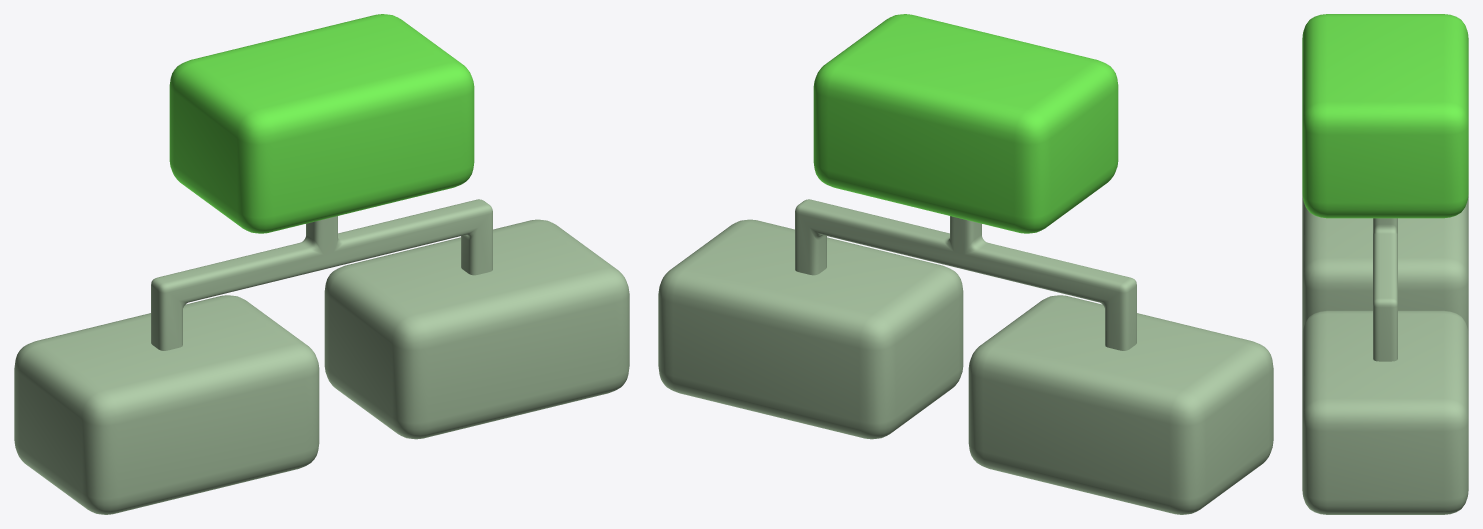
The model's file is hierarchie.gltf.
3 renders of one model, left to right at view 1: azimuth 30°, elevation 25°; view 2: azimuth 150°, elevation 25°; view 3: azimuth 270°, elevation 25°, orthographic. The views are drawn at different scales.
Parts seen in each view (by area): view 1: Box002, Box004, Box003, Box008; view 2: Box002, Box004, Box003, Box008; view 3: Box002, Box004, Box003, Box008.
Part boxes in pixels (<box>): Box002: <box>169,14,474,233</box>; Box004: <box>324,219,629,439</box>; Box003: <box>14,295,319,514</box>; Box008: <box>151,199,492,350</box>; Box002: <box>813,14,1118,233</box>; Box004: <box>658,219,963,439</box>; Box003: <box>968,295,1273,514</box>; Box008: <box>795,199,1136,350</box>; Box002: <box>1302,14,1468,218</box>; Box004: <box>1302,310,1468,514</box>; Box003: <box>1302,195,1468,333</box>; Box008: <box>1373,218,1397,361</box>.
Bounding box in the file's own units: 0.07 × 0.045 × 0.02.
